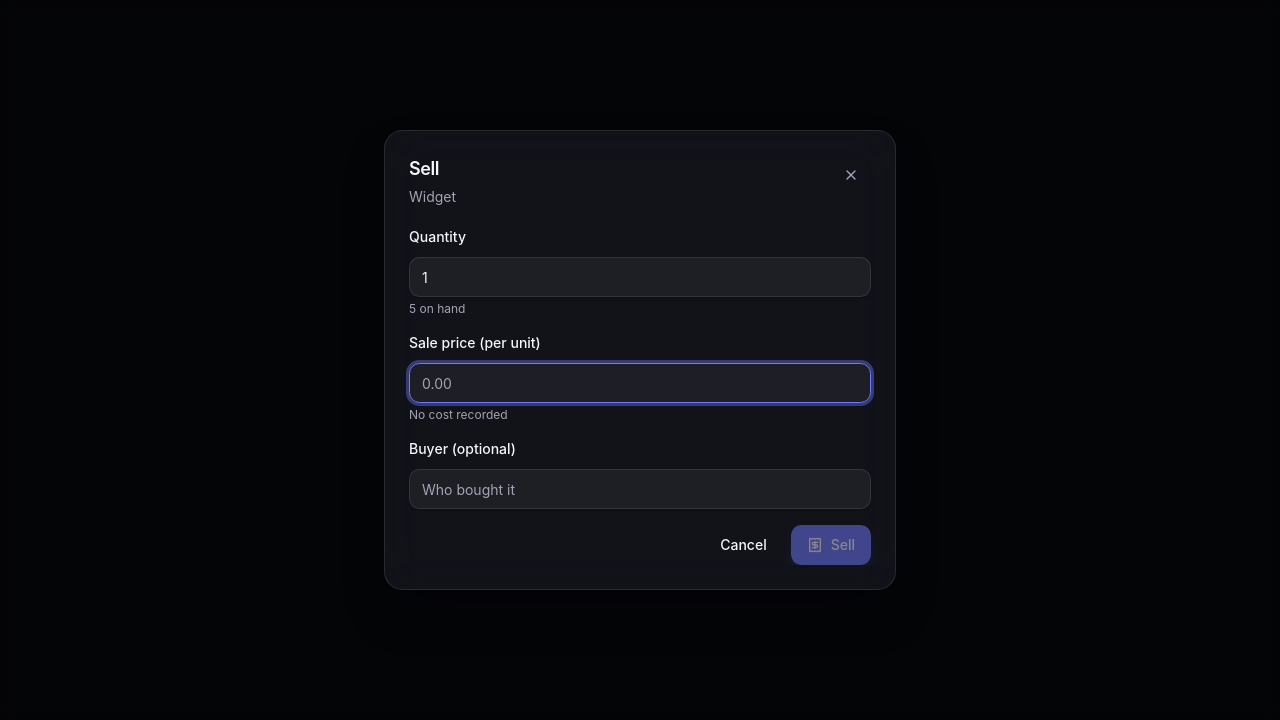
Test: SellDialog — the price gate › disables Sell until a valid price is entered
Check: the button "Sell" is disabled, box top-left (791, 525), bottom-right (871, 565)
Type "5" into the number field with placeholder "0.00".
click(640, 383); type("5")  # box top-left (409, 363), bottom-right (871, 403)
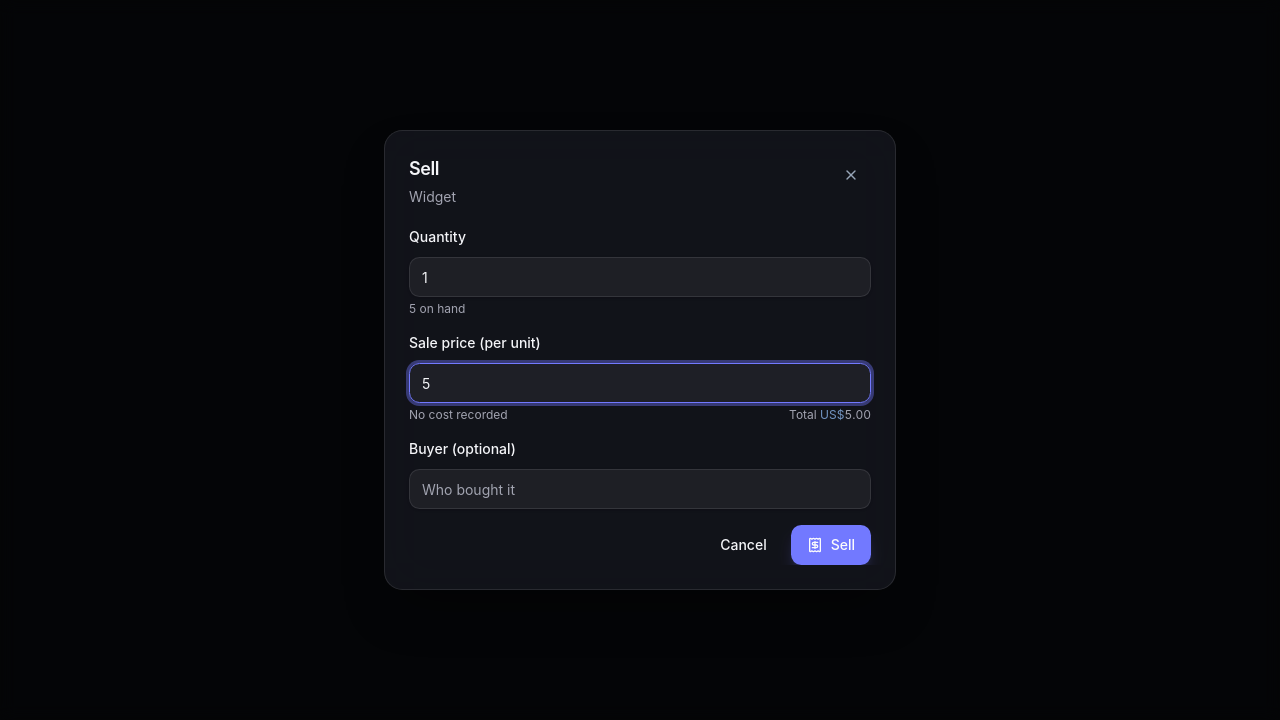
Check: the button "Sell" is enabled, box top-left (791, 525), bottom-right (871, 565)
